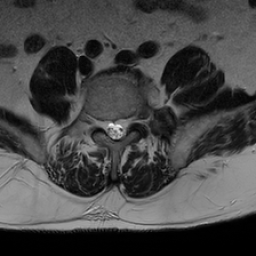CCS_normal: (112, 110, 118, 148)
LFS_normal: (128, 106, 136, 134)
LLS_normal: (118, 109, 126, 145)
RFS_normal: (96, 108, 104, 136)
RLS_normal: (104, 112, 112, 145)
